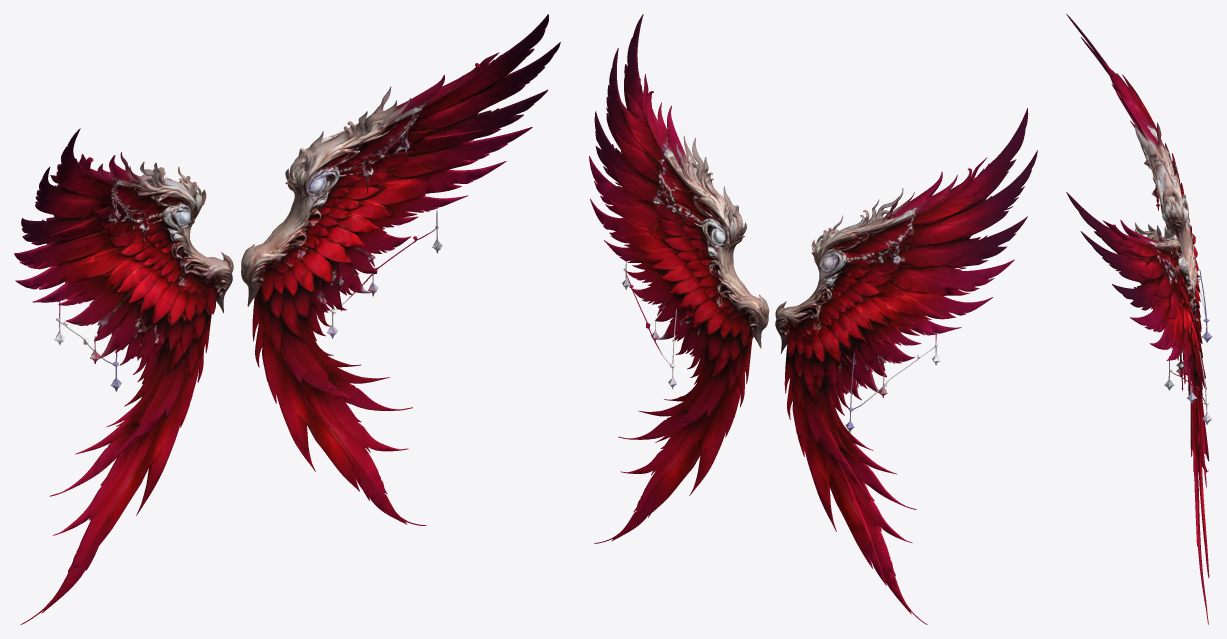
File: CanvasOfNavelle.glb
The picture shows the model from 3 angles, left to right: view 1: azimuth 30°, elevation 25°; view 2: azimuth 150°, elevation 25°; view 3: azimuth 270°, elevation 25°; orthographic projection. The views are drawn at different scales.
Parts seen in each view (by area): view 1: node_0; view 2: node_0; view 3: node_0.
Part boxes in pixels (x1,y1,x2,y2): node_0: [14, 14, 560, 624]; node_0: [589, 14, 1037, 624]; node_0: [1066, 14, 1212, 624].
Size of the model in its own units: 0.9698 by 1 by 0.2993.
Materials: 1 (1 with a texture image).
